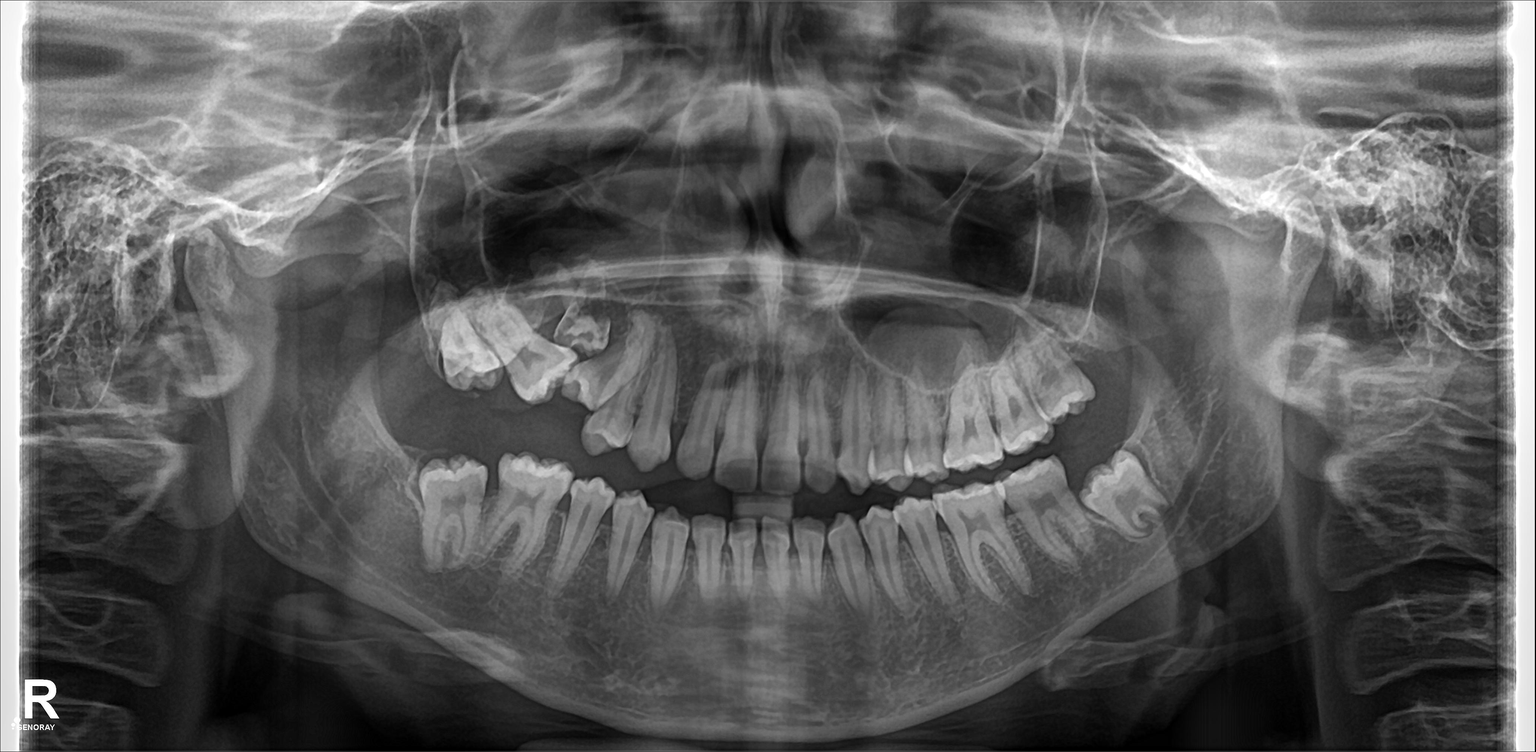Dental Caries: (723, 460, 752, 489)
Impacted Third Molar: (1084, 449, 1161, 529)
Missing Tooth: (367, 443, 429, 567), (391, 296, 439, 408), (1086, 307, 1135, 401)
